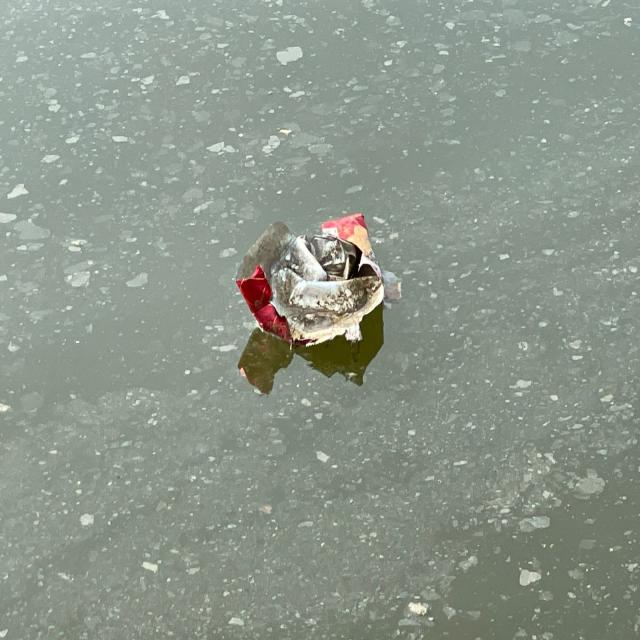Bungkus Makanan: (230, 208, 392, 363)
